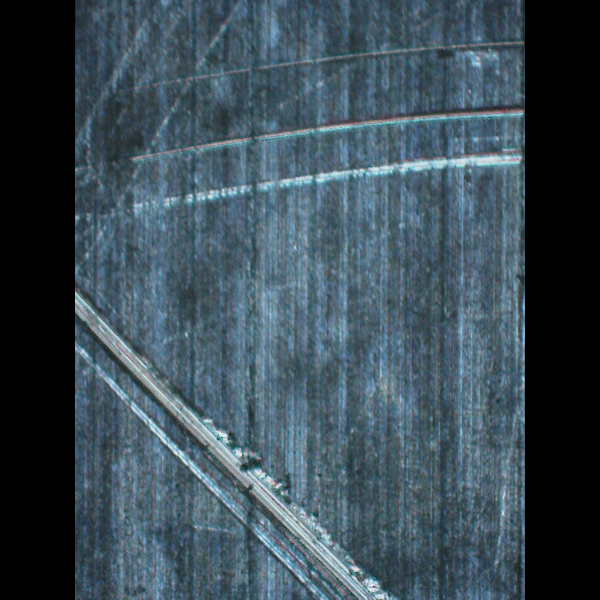d: (74, 267, 399, 600), (95, 27, 524, 237)
